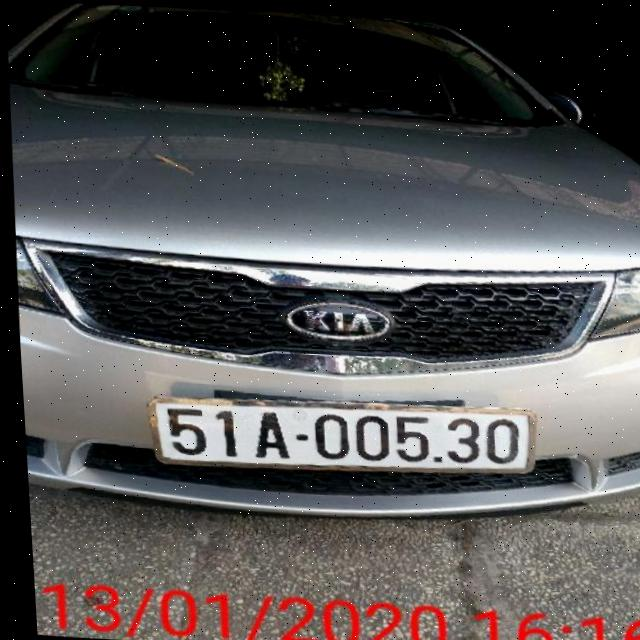car: (1, 11, 640, 549)
plate: (126, 378, 465, 483)
